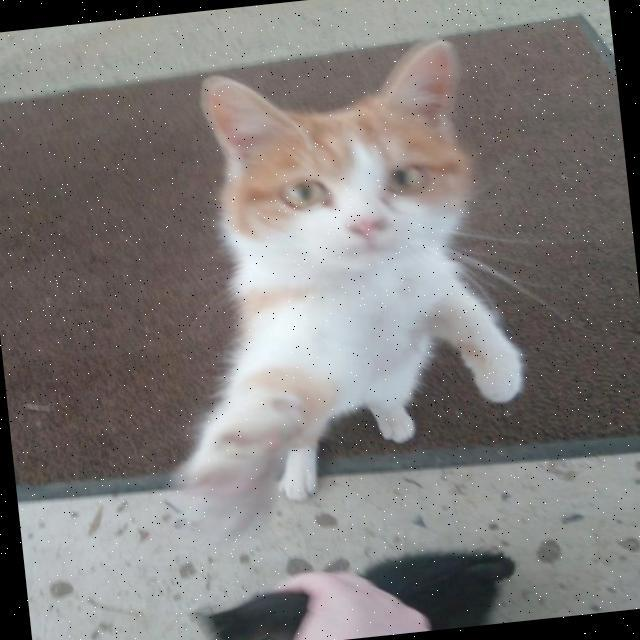Cats: (112, 28, 560, 534)
